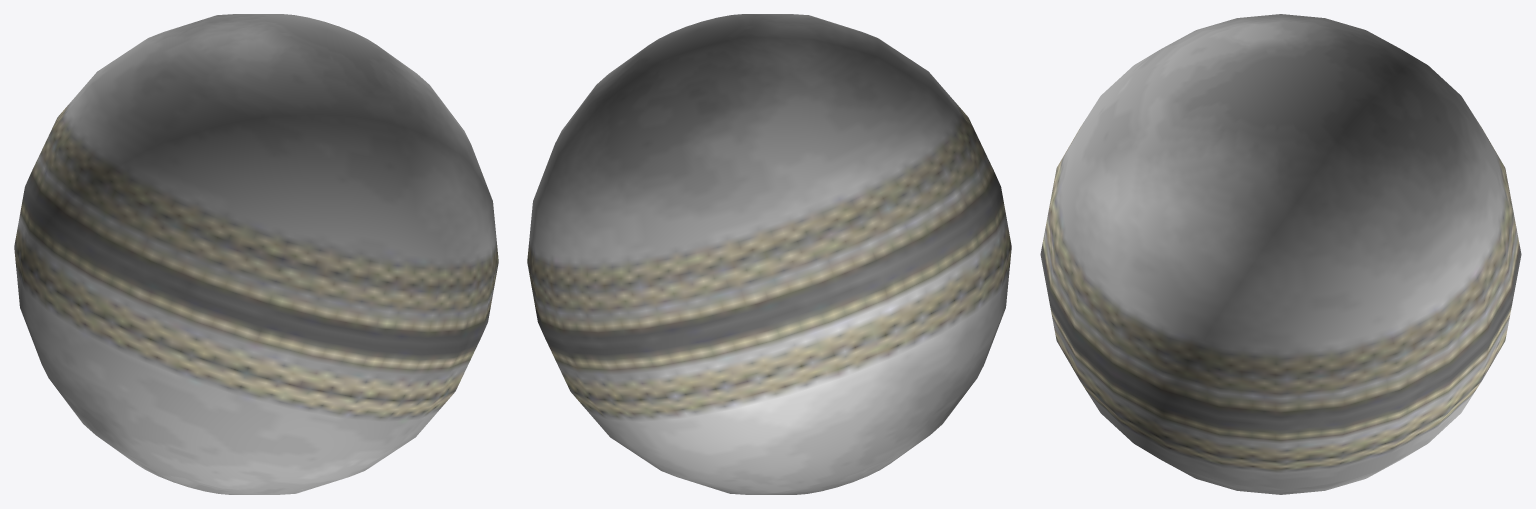
File: cricket2005.ICO.obj
The picture shows the model from 3 angles, left to right: view 1: azimuth 30°, elevation 25°; view 2: azimuth 150°, elevation 25°; view 3: azimuth 270°, elevation 25°; orthographic projection.
Bounding box in the file's own units: 2.99 × 2.99 × 3.
Materials: 1 (1 with a texture image).
